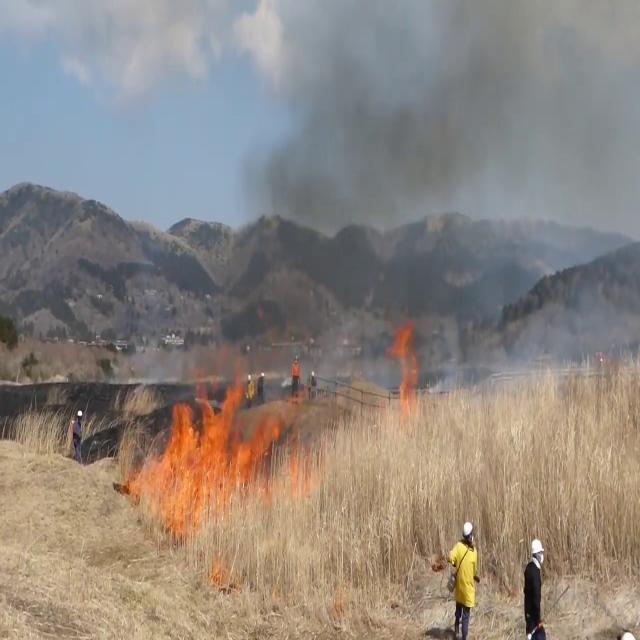Fire: (127, 365, 275, 528), (387, 310, 422, 409)
Smoke: (220, 0, 640, 393)
